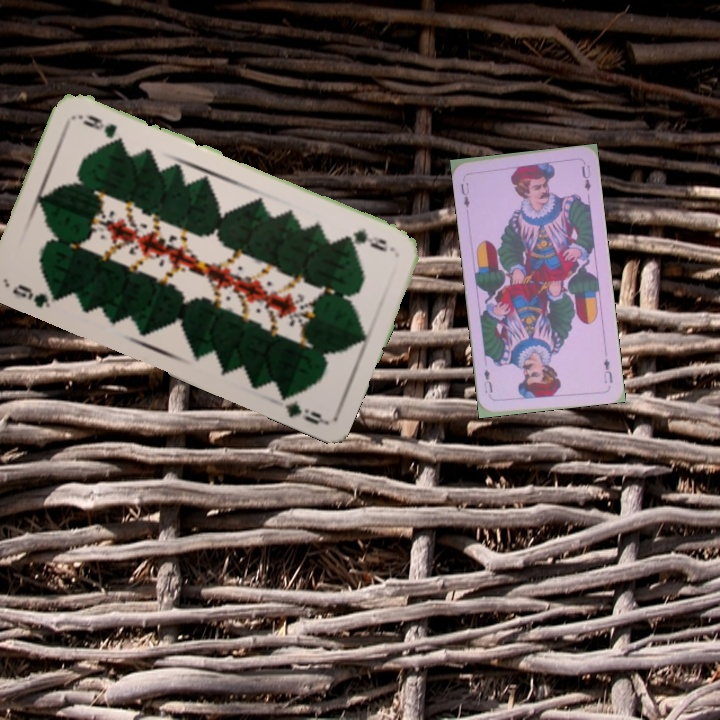EU: (457, 179, 472, 210), (600, 355, 615, 386)
G9: (341, 225, 397, 255), (8, 280, 53, 310)
